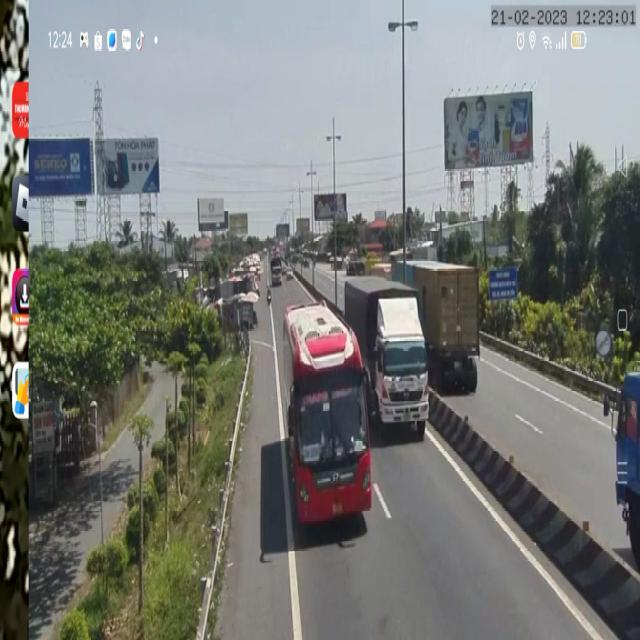bus: (282, 301, 374, 532)
truck: (344, 275, 430, 447), (386, 262, 482, 398), (614, 366, 640, 570)
